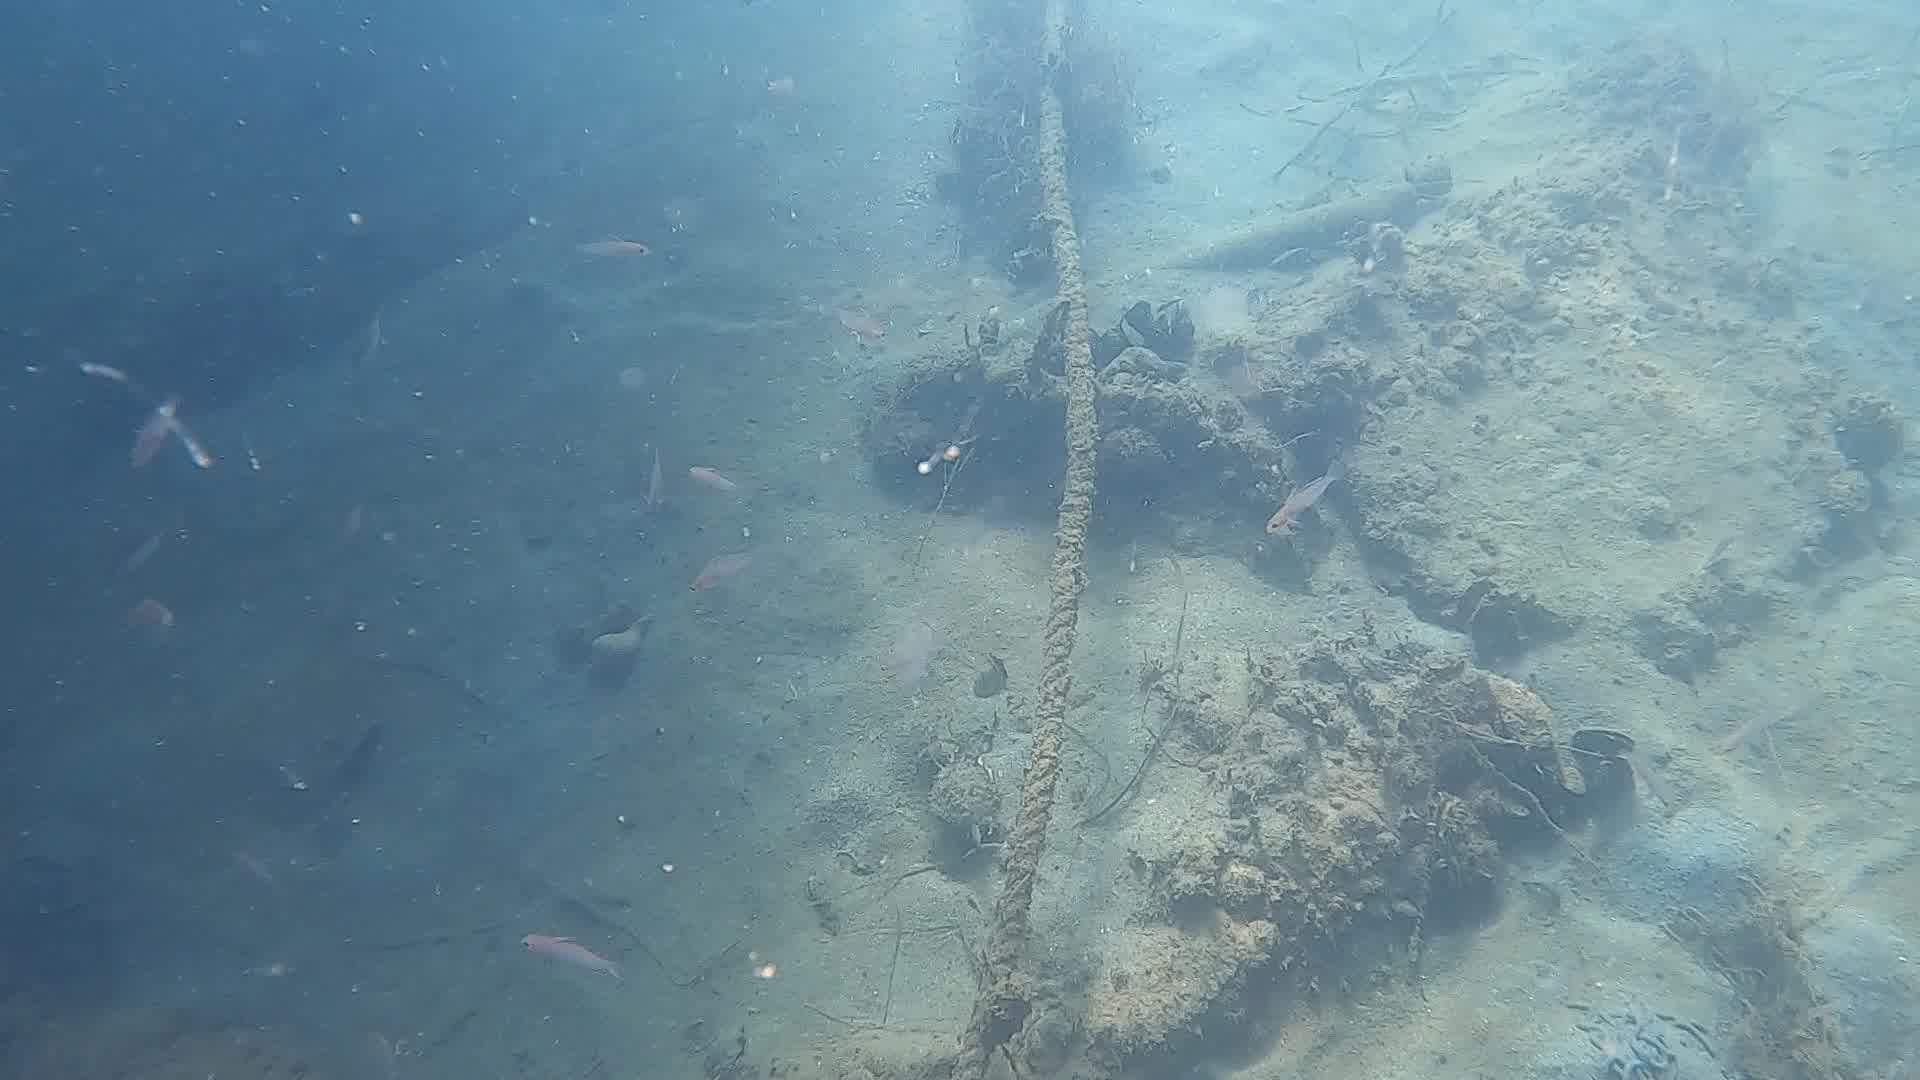rope: (949, 0, 1101, 1080)
